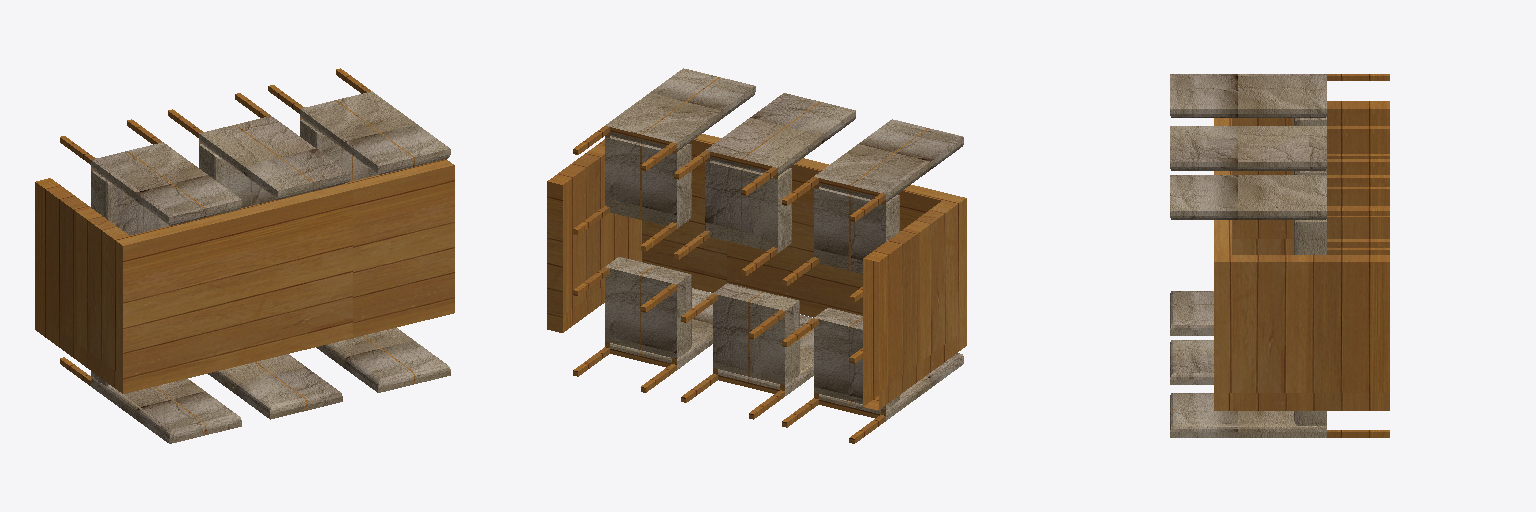
The picture shows the model from 3 angles: view 1: azimuth 30°, elevation 25°; view 2: azimuth 150°, elevation 25°; view 3: azimuth 270°, elevation 25°; orthographic projection.
Parts seen in each view (by area): view 1: Mesh7 Model, Mesh4 Model, Mesh3 Model, Mesh5 Model, Mesh1 Model, Mesh2 Model, Mesh6 Model; view 2: Mesh7 Model, Mesh3 Model, Mesh5 Model, Mesh4 Model, Mesh6 Model, Mesh2 Model, Mesh1 Model; view 3: Mesh7 Model, Mesh5 Model, Mesh4 Model, Mesh3 Model, Mesh6 Model, Mesh1 Model, Mesh2 Model.
Part boxes in pixels (x1,y1,x2,y2): Mesh7 Model: (35,159,454,393); Mesh4 Model: (60,119,241,235); Mesh3 Model: (168,93,349,208); Mesh5 Model: (268,68,450,181); Mesh1 Model: (60,357,241,443); Mesh2 Model: (208,354,342,419); Mesh6 Model: (316,328,450,392); Mesh7 Model: (547,134,966,409); Mesh3 Model: (674,93,855,275); Mesh5 Model: (573,68,755,251); Mesh4 Model: (782,119,963,302); Mesh6 Model: (573,257,712,392); Mesh2 Model: (681,283,813,419); Mesh1 Model: (782,308,963,443); Mesh7 Model: (1214,101,1389,410); Mesh5 Model: (1170,175,1389,254); Mesh4 Model: (1170,74,1389,193); Mesh3 Model: (1170,126,1389,246); Mesh6 Model: (1170,393,1389,437); Mesh1 Model: (1170,216,1389,335); Mesh2 Model: (1170,340,1213,384).
Bounding box in the file's own units: 1.78 × 1.17 × 1.03.
Materials: 2 (2 with a texture image).